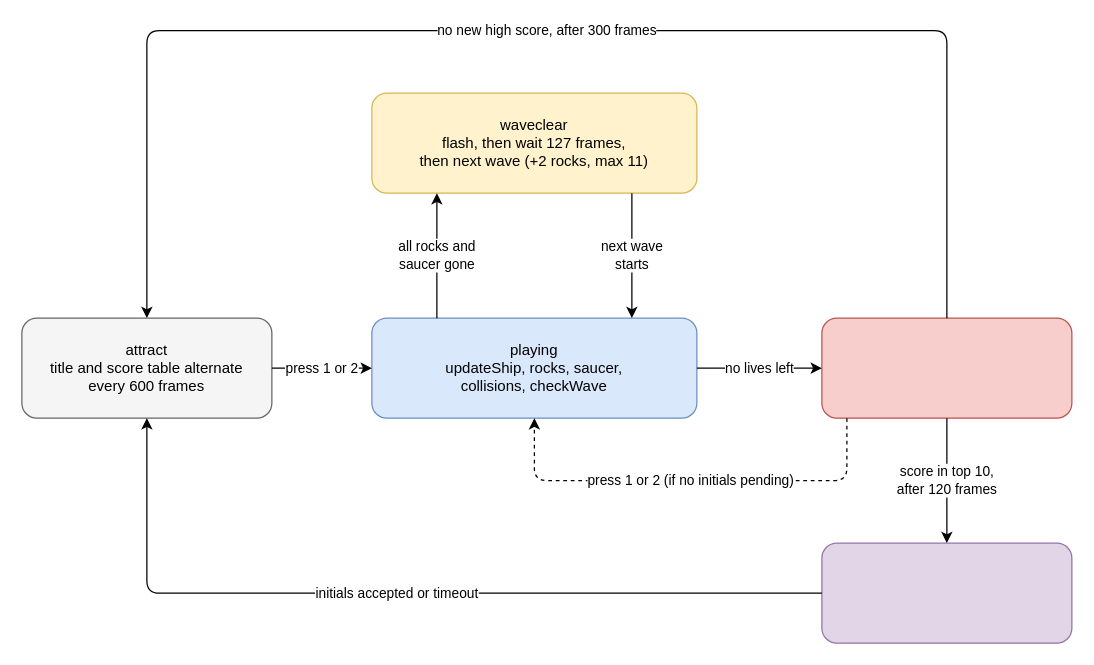
This 1094x665 diagram has some shape labels left out. Here are the shapes that lost their labels. From the top down, the box of each, then its label:
(821, 317, 1072, 418): gameover blinking GAME OVER
(821, 542, 1072, 643): hiscore enter 3 initials (GETINT), 64 s timeout
